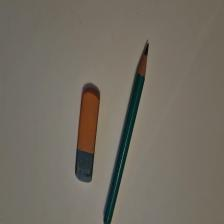eraser: (76, 90, 101, 184)
pencil: (105, 44, 150, 224)
